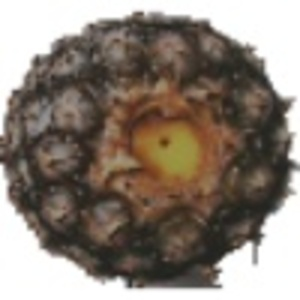abacaxi: (1, 9, 289, 278)
